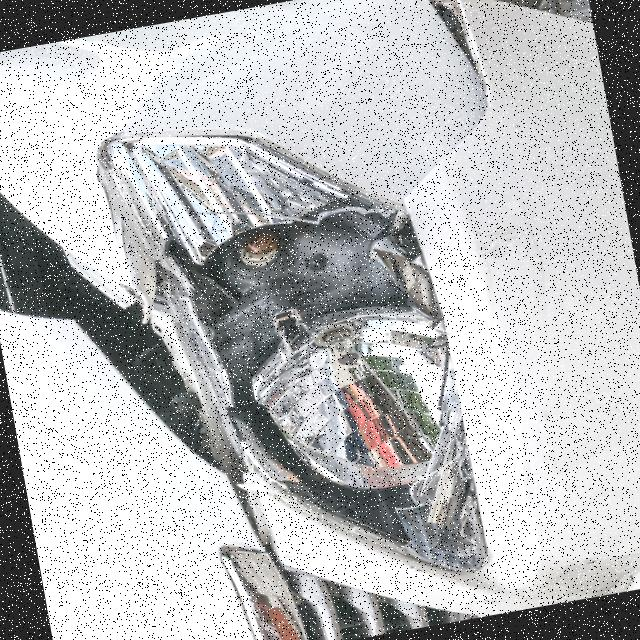Head Light: (156, 116, 494, 606)
